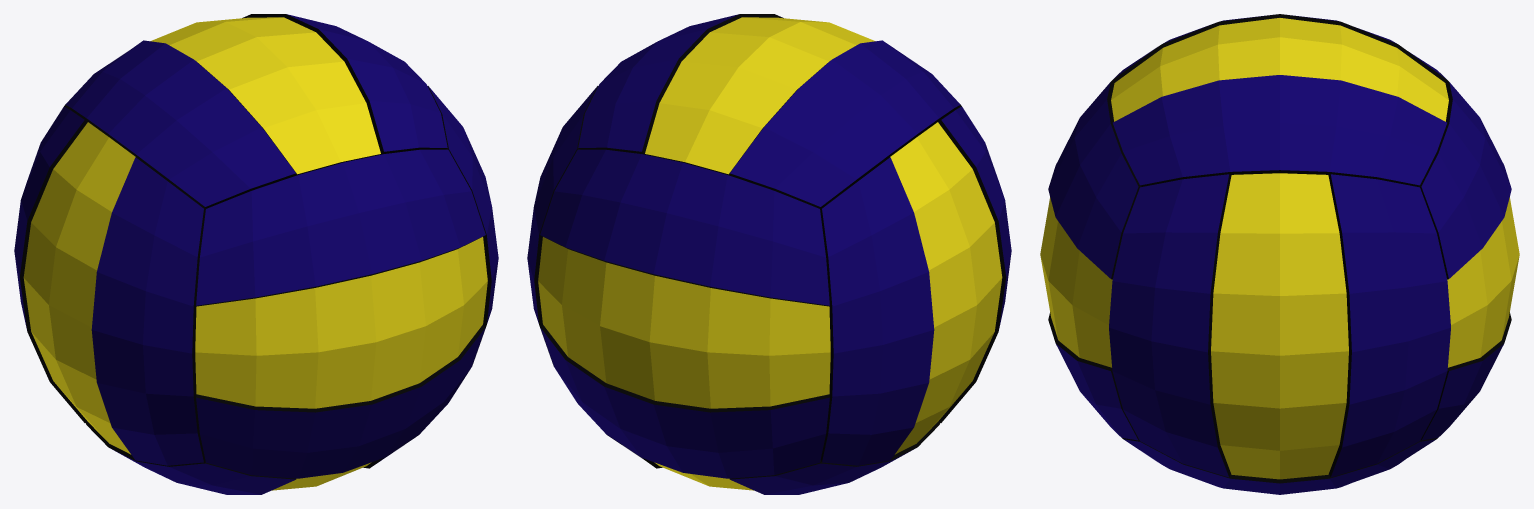
The model's file is Voly.glb.
3 renders of one model, left to right at view 1: azimuth 30°, elevation 25°; view 2: azimuth 150°, elevation 25°; view 3: azimuth 270°, elevation 25°, orthographic.
Parts seen in each view (by area): view 1: Cube; view 2: Cube; view 3: Cube.
Boxes of the visible parts, left/top/right/bottom form: Cube: left=14, top=14, right=498, bottom=494; Cube: left=527, top=14, right=1011, bottom=494; Cube: left=1040, top=14, right=1519, bottom=494.
Size of the model in its own units: 3.54 by 3.54 by 3.54.
